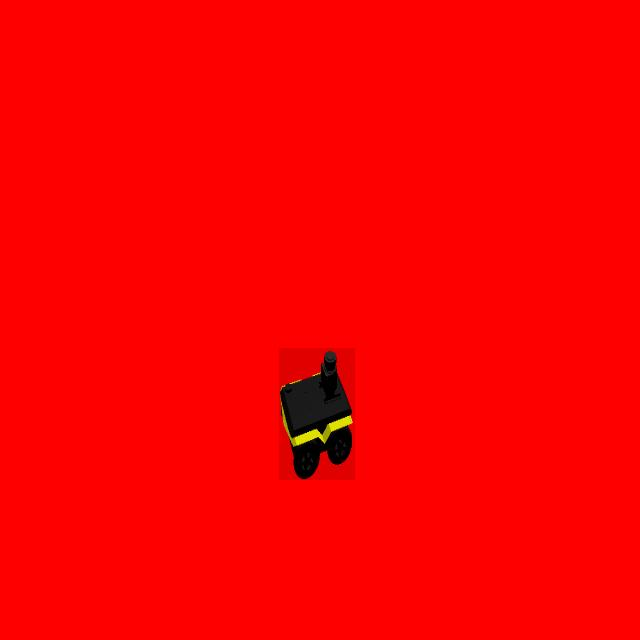jackal: (280, 348, 356, 480)
